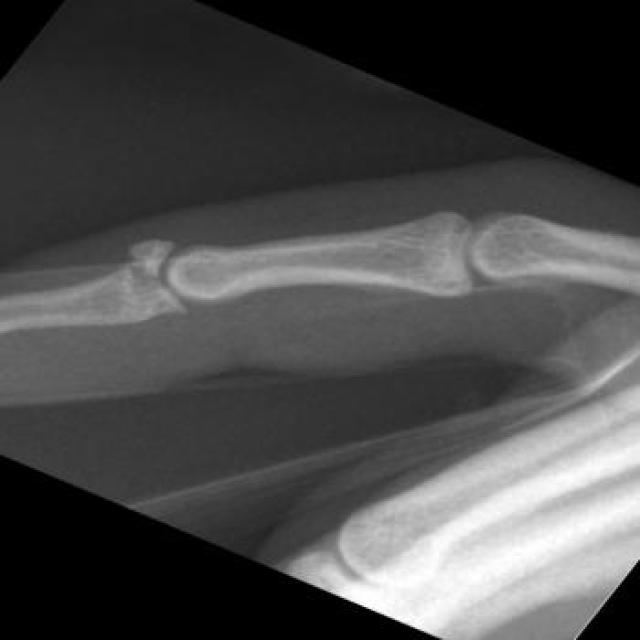Fracture: (121, 223, 182, 317)
